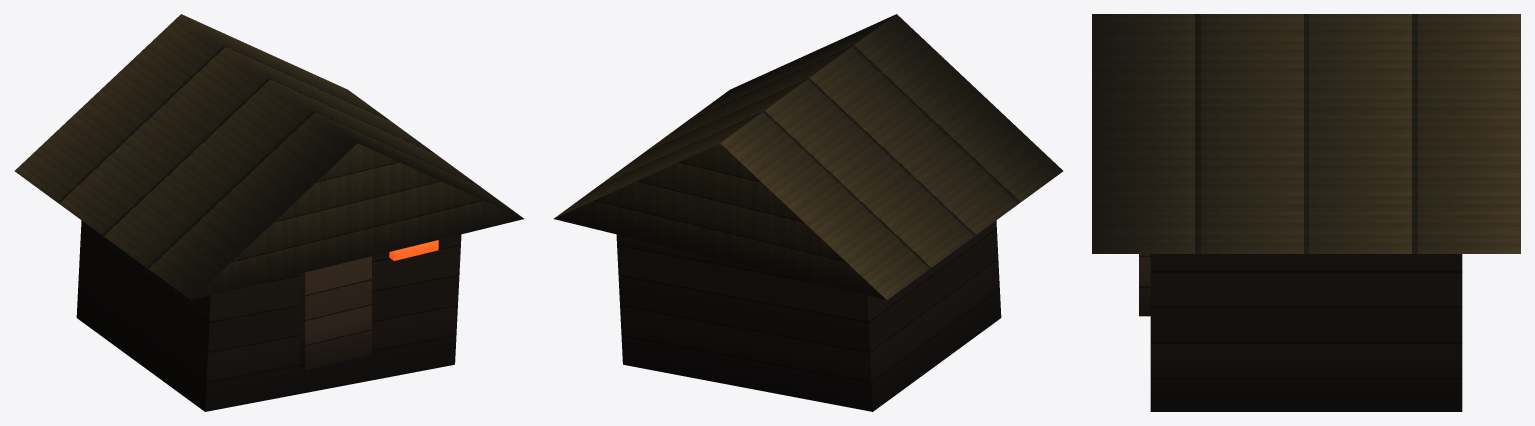
Rendered from hovel.gltf.
3 renders of one model, left to right at view 1: azimuth 30°, elevation 25°; view 2: azimuth 150°, elevation 25°; view 3: azimuth 270°, elevation 25°, orthographic. The views are drawn at different scales.
Visible parts, largest first — view 1: hovel; view 2: hovel; view 3: hovel.
Part boxes in pixels (x1,y1,x2,y2): hovel: (14,14,523,411); hovel: (554,14,1063,411); hovel: (1092,14,1520,411).
Size of the model in its own units: 1.2 by 0.9232 by 1.1.
1 material, 1 textured.
